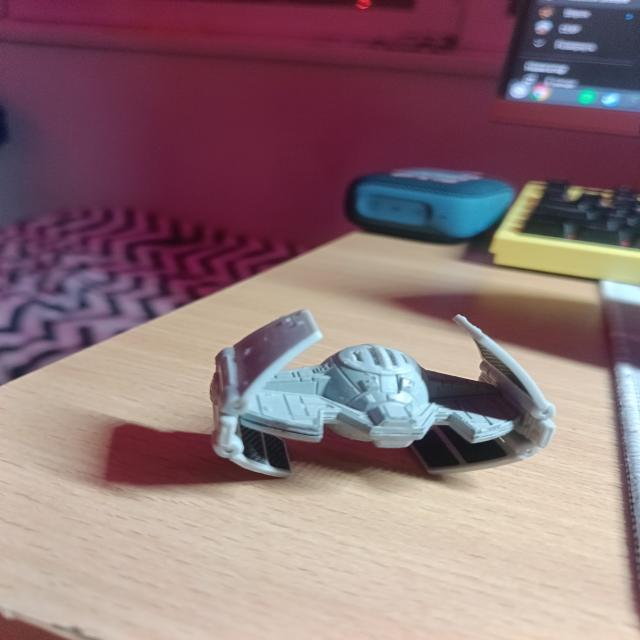tie fighter: (211, 310, 555, 478), (281, 390, 286, 395)
